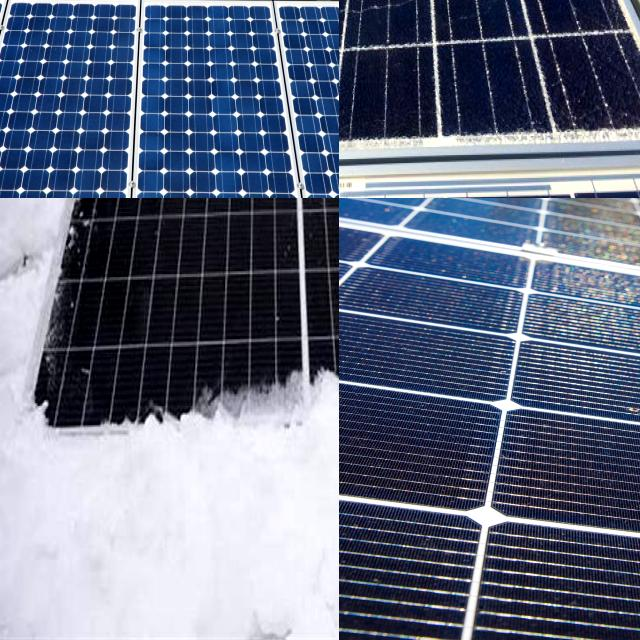crack: (339, 198, 640, 640), (105, 0, 330, 198), (0, 0, 177, 198), (0, 0, 146, 198), (258, 0, 339, 198), (125, 0, 285, 86), (8, 0, 158, 83), (0, 0, 89, 98), (241, 0, 339, 84)
hotspot: (339, 0, 404, 62)
panel: (29, 198, 83, 437), (164, 368, 270, 465), (28, 399, 162, 454), (276, 365, 339, 436), (183, 198, 290, 223), (298, 198, 339, 223), (98, 198, 170, 212)
